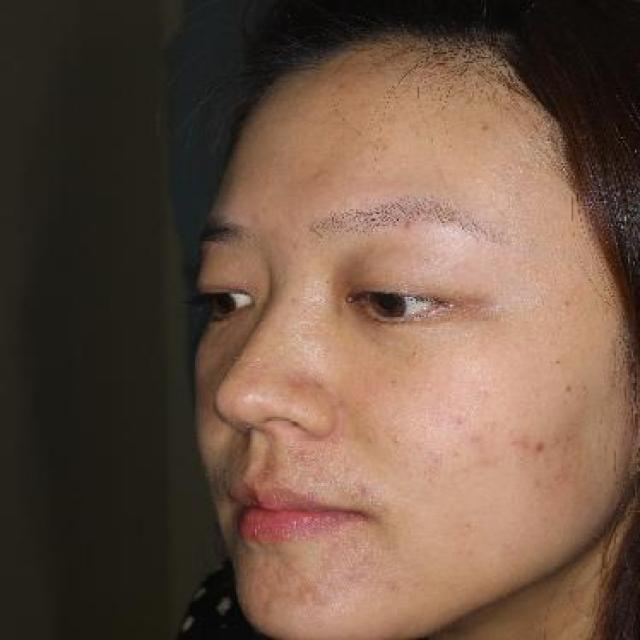dark spot: (474, 431, 496, 472), (351, 480, 383, 503), (507, 428, 532, 455), (450, 412, 469, 430), (532, 437, 551, 454)
whiteheads: (390, 432, 406, 448)
